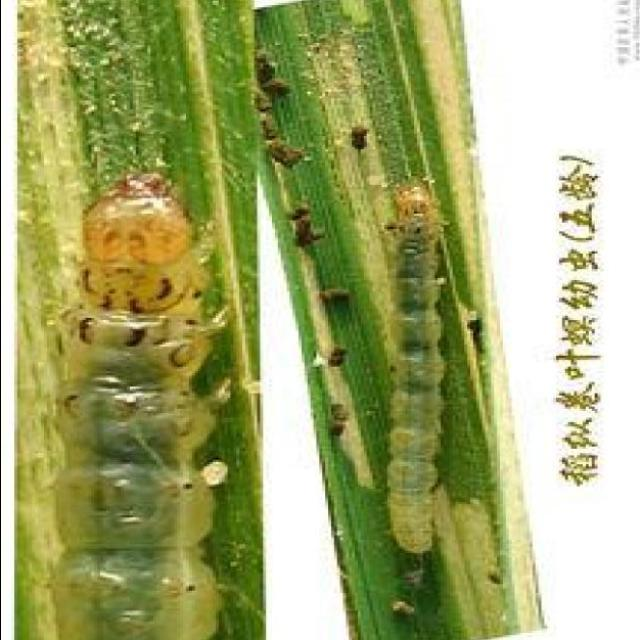leaf folder: (37, 171, 225, 640), (386, 201, 443, 554)
